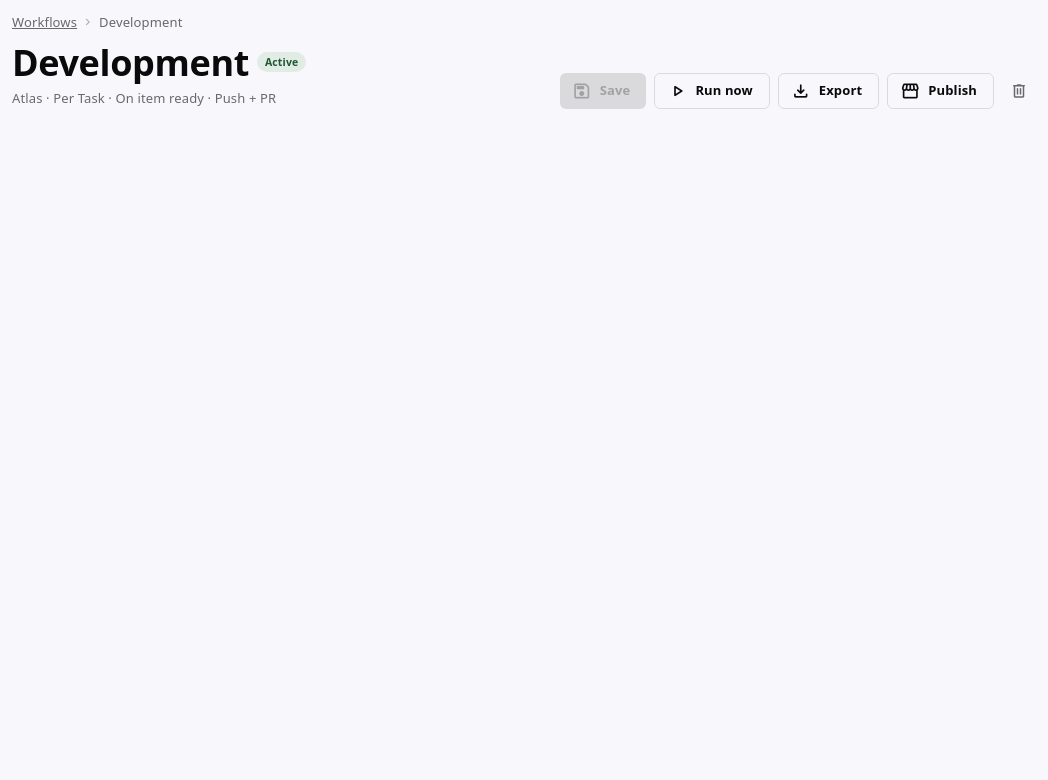
Scenario: WorkflowHeader Publish › publishes the saved workflow the first time
The width and height of the screenshot is (1048, 780).
Click the button "Publish" at (941, 91), box [887,73,994,109]
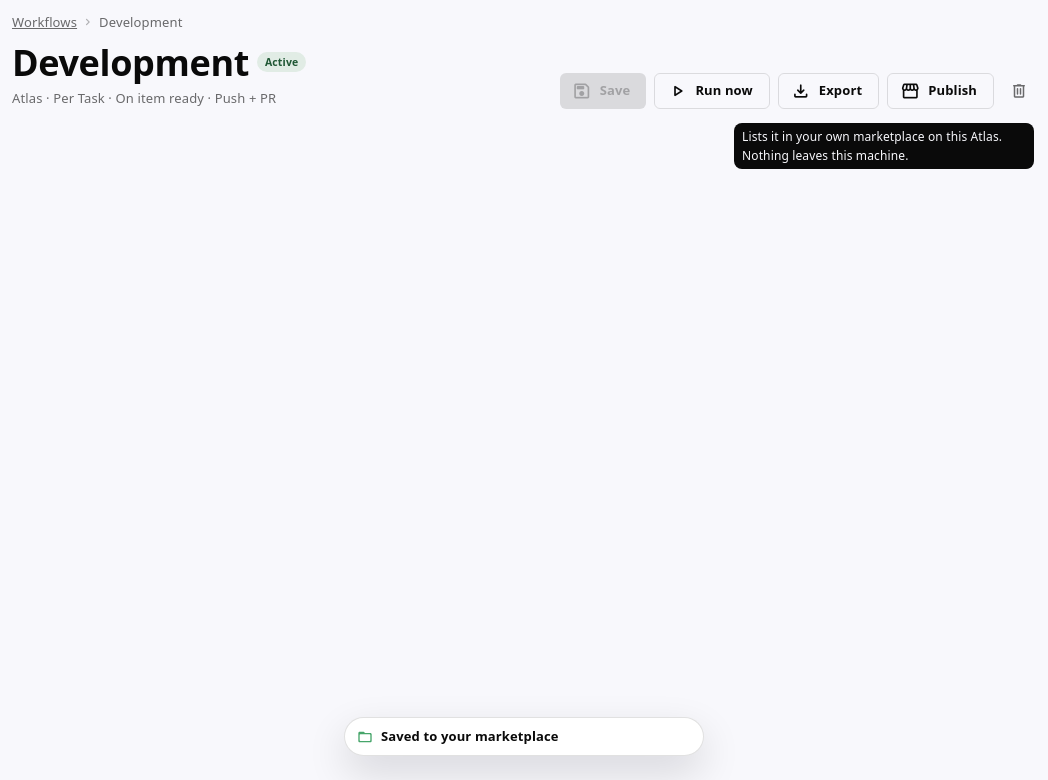
Now the text "Saved to your marketplace" is shown, box [381,727,559,745]
